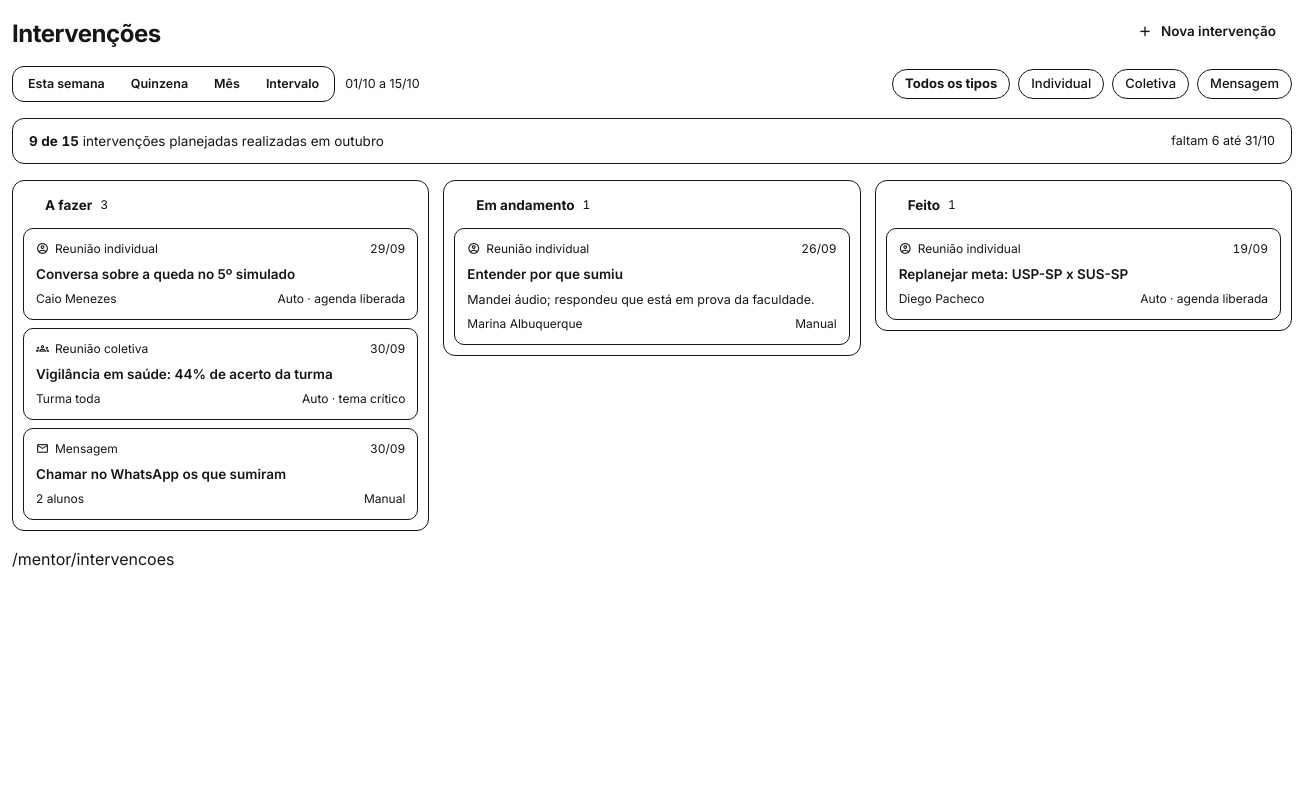
Test: Intervenções · nova intervenção › erro da fonte aparece inline via mensagemErro
The width and height of the screenshot is (1304, 812).
Click the button "Nova intervenção" at [1206, 31], box [1121,12,1292,50]
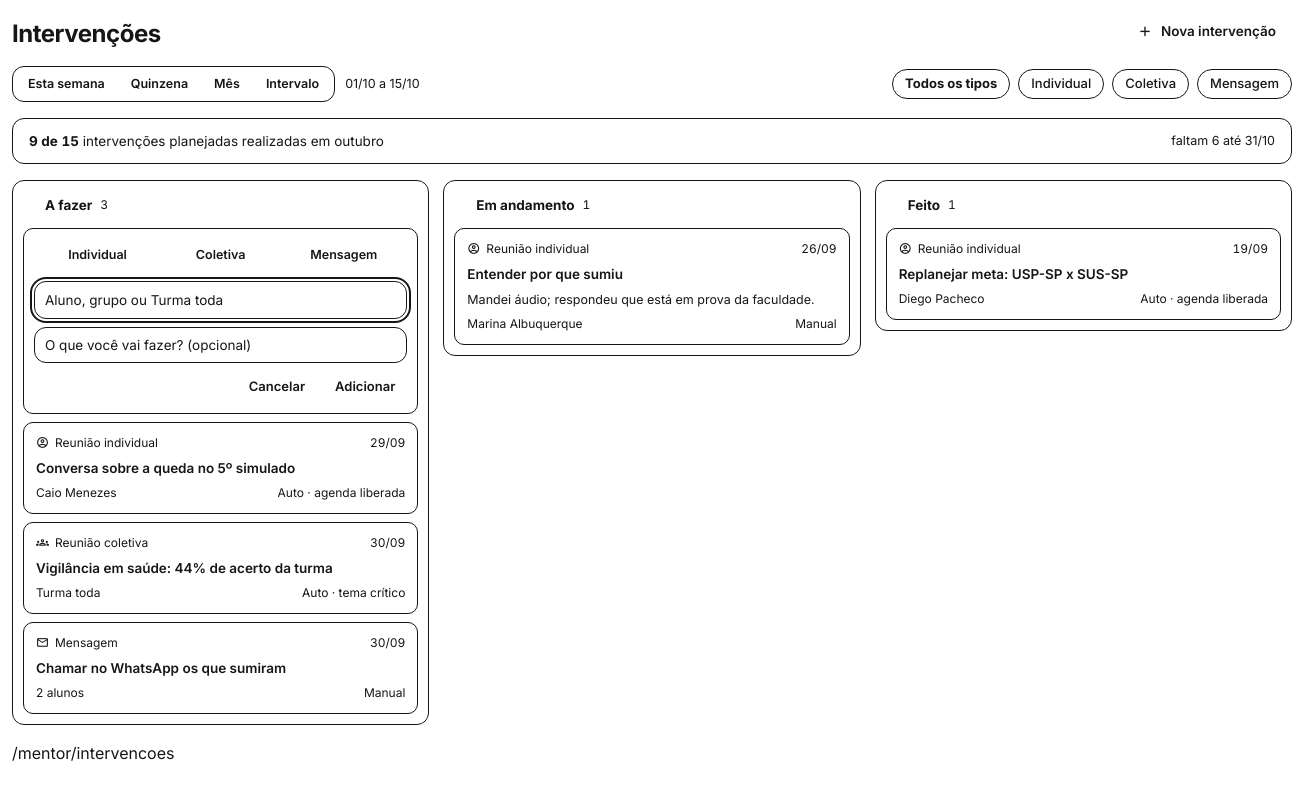
Type "caio" into the dropdown named "Para quem" at [221, 300], box [41,286,400,314]
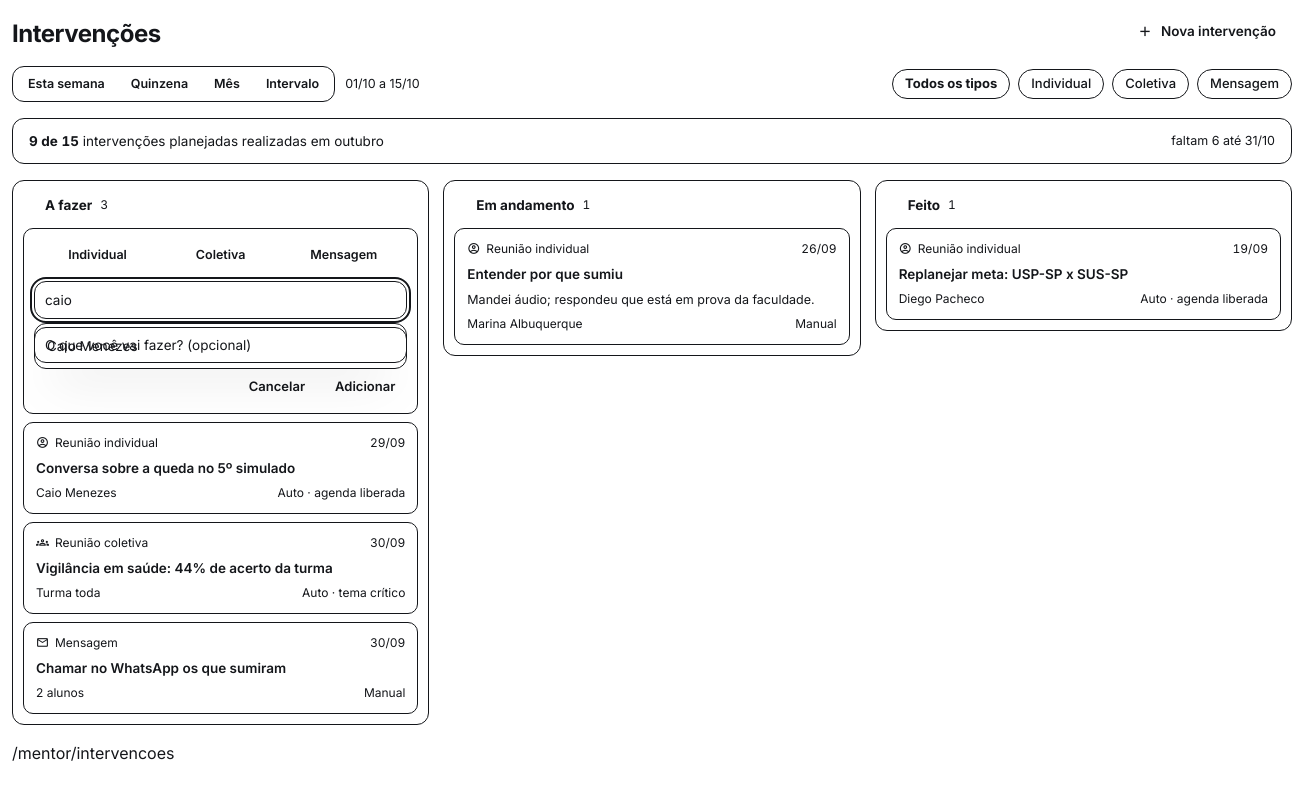
Click the option "Caio Menezes" at [92, 346], box [47,338,138,354]
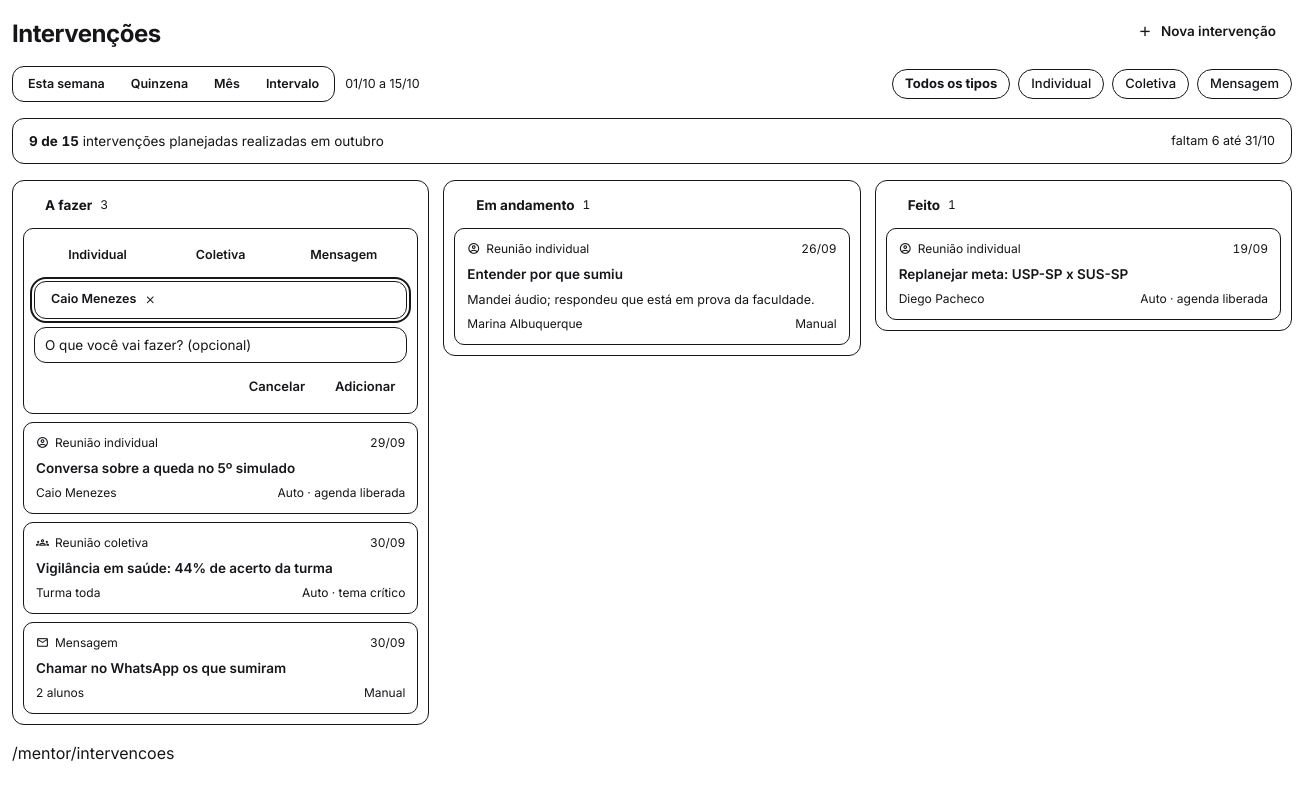
Click the button "Adicionar" at [365, 386], box [323,370,407,402]
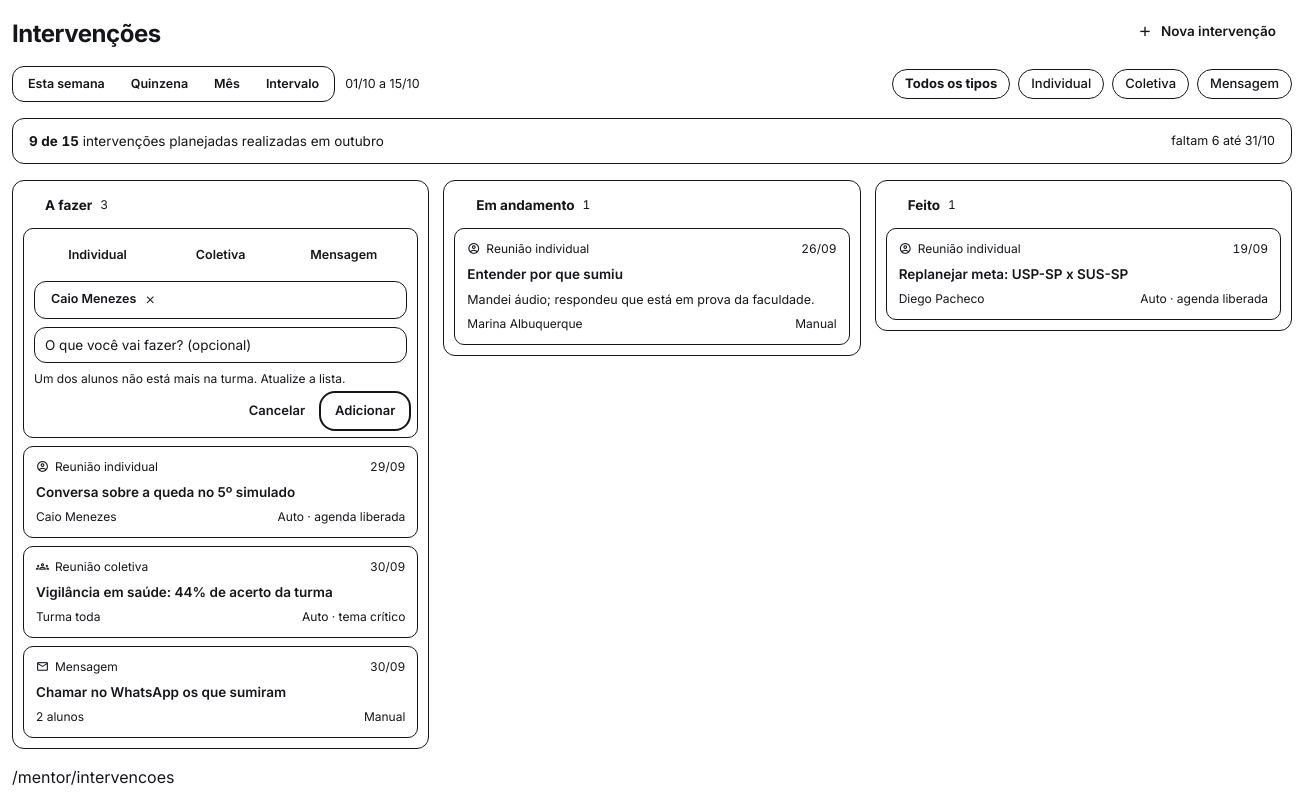
Now the form named "Nova intervenção" is shown, box [23,228,418,438]
Now the message reads "Um dos alunos não está mais na turma. Atualize a lista.", box [34,370,345,386]
